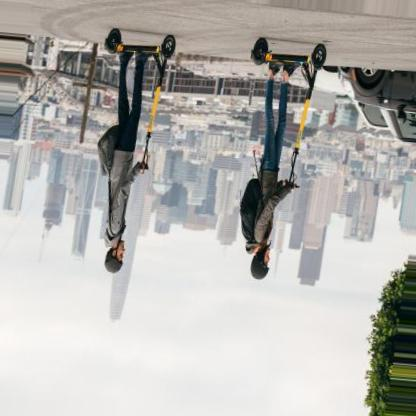scooter: (250, 36, 327, 192), (102, 29, 176, 176)
with helmet: (250, 244, 273, 281), (104, 239, 126, 276)
